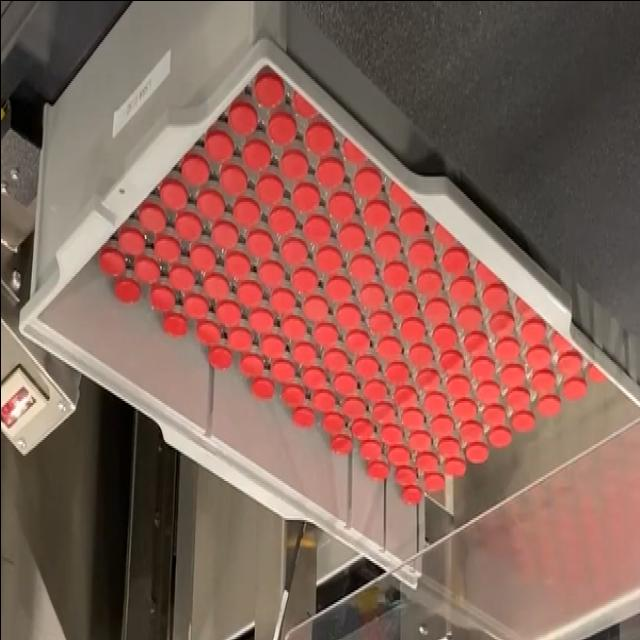vial: (215, 163, 247, 197), (444, 278, 478, 306), (118, 228, 144, 260), (224, 107, 256, 133), (264, 119, 296, 144), (97, 248, 123, 276), (138, 206, 166, 232), (210, 223, 236, 251), (302, 128, 332, 152), (302, 296, 326, 326), (428, 327, 460, 349), (290, 88, 314, 116), (230, 202, 258, 226), (472, 257, 500, 281), (402, 342, 432, 364), (352, 175, 377, 201), (330, 372, 355, 398), (178, 159, 205, 183), (372, 233, 396, 260), (254, 180, 282, 203), (235, 279, 258, 307), (240, 149, 272, 169), (115, 279, 139, 305), (246, 234, 272, 258), (190, 242, 212, 270), (456, 309, 484, 331), (508, 409, 536, 431), (268, 208, 293, 232), (279, 240, 304, 264), (363, 205, 389, 228), (357, 284, 384, 306), (356, 355, 377, 383), (154, 240, 178, 264), (160, 184, 184, 208), (200, 274, 224, 298), (223, 254, 246, 279), (180, 294, 202, 320), (196, 192, 218, 218), (326, 196, 352, 218), (408, 246, 434, 268), (370, 403, 396, 425), (400, 318, 426, 340), (394, 382, 416, 408), (161, 313, 181, 341), (412, 274, 440, 294), (399, 212, 423, 235), (376, 335, 399, 359), (449, 398, 473, 421), (280, 153, 305, 175), (439, 252, 464, 274), (380, 264, 406, 285), (254, 82, 277, 105), (149, 286, 171, 310), (196, 322, 218, 346), (134, 260, 158, 282), (341, 140, 365, 162), (416, 368, 440, 390), (474, 381, 498, 403), (488, 426, 512, 448), (318, 245, 338, 271), (389, 180, 409, 206), (358, 440, 381, 462), (177, 217, 200, 239), (297, 185, 319, 208), (282, 318, 304, 341), (488, 312, 511, 334), (436, 438, 459, 460), (422, 300, 447, 320), (389, 294, 415, 313), (553, 356, 580, 374), (205, 138, 227, 160), (316, 160, 338, 182), (314, 322, 336, 344), (302, 222, 324, 244), (327, 280, 349, 302), (352, 260, 374, 282), (334, 306, 356, 328), (227, 324, 247, 348), (240, 354, 260, 378), (344, 335, 368, 355), (342, 396, 366, 416), (366, 312, 390, 332), (340, 224, 361, 246), (564, 377, 586, 398), (250, 379, 270, 402), (520, 322, 543, 342), (446, 375, 466, 398), (482, 287, 506, 306), (526, 349, 550, 368), (361, 382, 386, 400), (499, 366, 524, 384), (394, 466, 414, 488), (170, 269, 190, 291), (216, 304, 236, 326), (258, 335, 278, 357), (258, 264, 278, 286), (292, 270, 312, 292), (324, 349, 344, 371), (440, 354, 460, 376), (443, 458, 465, 478), (429, 418, 451, 438), (505, 390, 527, 410), (482, 406, 504, 426), (350, 418, 368, 442), (381, 365, 408, 381), (494, 342, 518, 360), (528, 372, 552, 390), (433, 222, 453, 243), (462, 333, 484, 352), (472, 360, 494, 379), (292, 406, 310, 429), (459, 422, 482, 440), (537, 394, 560, 412), (270, 362, 290, 382), (422, 471, 442, 491), (424, 394, 444, 414), (250, 308, 268, 330), (302, 366, 320, 388), (268, 292, 292, 308), (401, 412, 420, 432), (292, 342, 310, 363), (551, 331, 569, 352), (364, 462, 387, 478), (281, 385, 299, 405), (328, 436, 348, 454), (312, 394, 330, 414), (380, 426, 400, 444), (416, 452, 434, 472), (466, 444, 486, 462), (387, 447, 409, 462), (212, 348, 228, 368), (398, 488, 418, 504), (410, 432, 426, 452), (322, 416, 338, 434), (588, 364, 602, 384), (514, 298, 530, 315)
